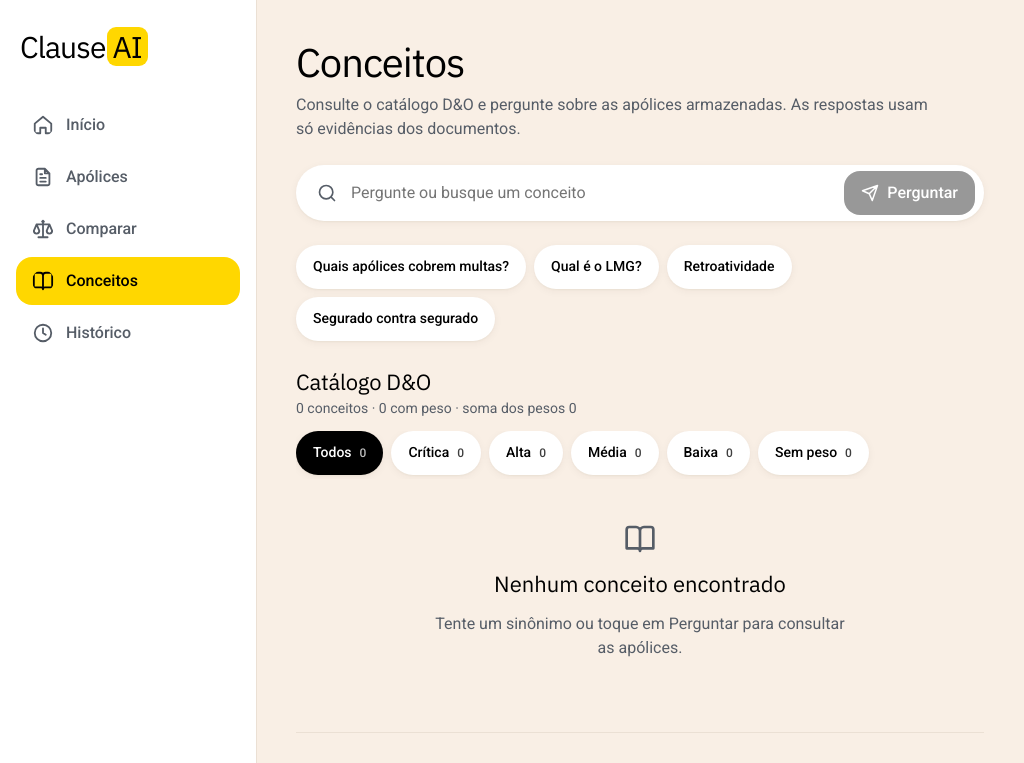
it: App › sends questions to the query endpoint
In the search field labelled "Pergunte ou busque um conceito": (591, 193) [349,171,832,215], type "Qual é o LMG?"
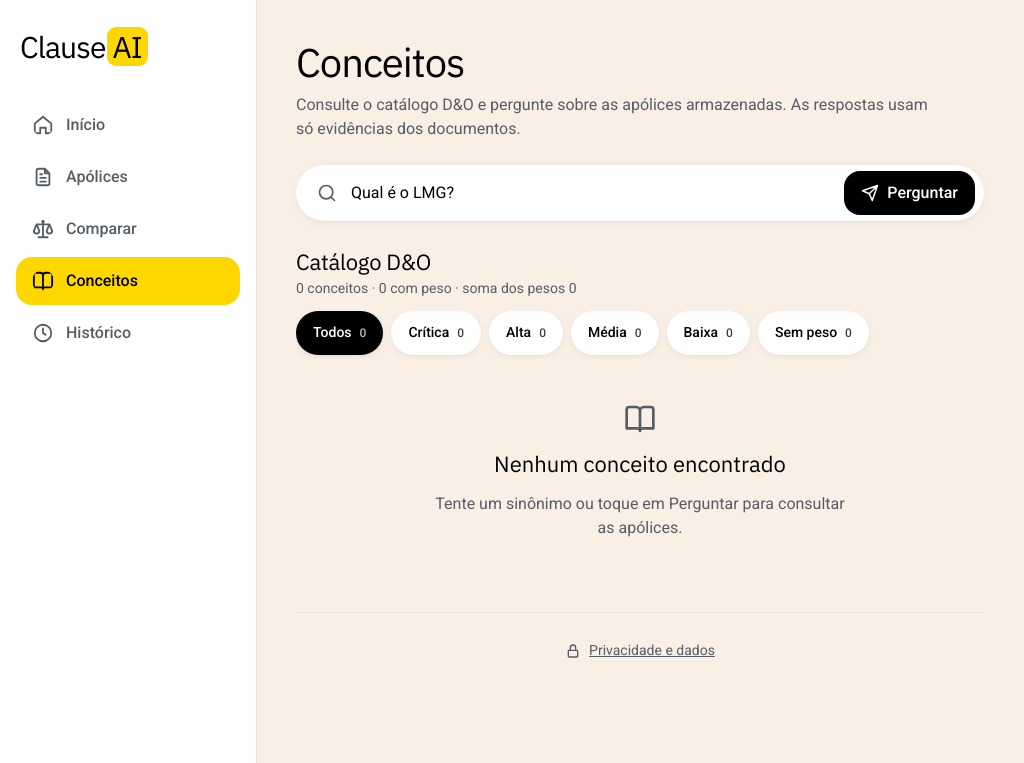
Click the button "Perguntar": (910, 193) [844,171,975,215]
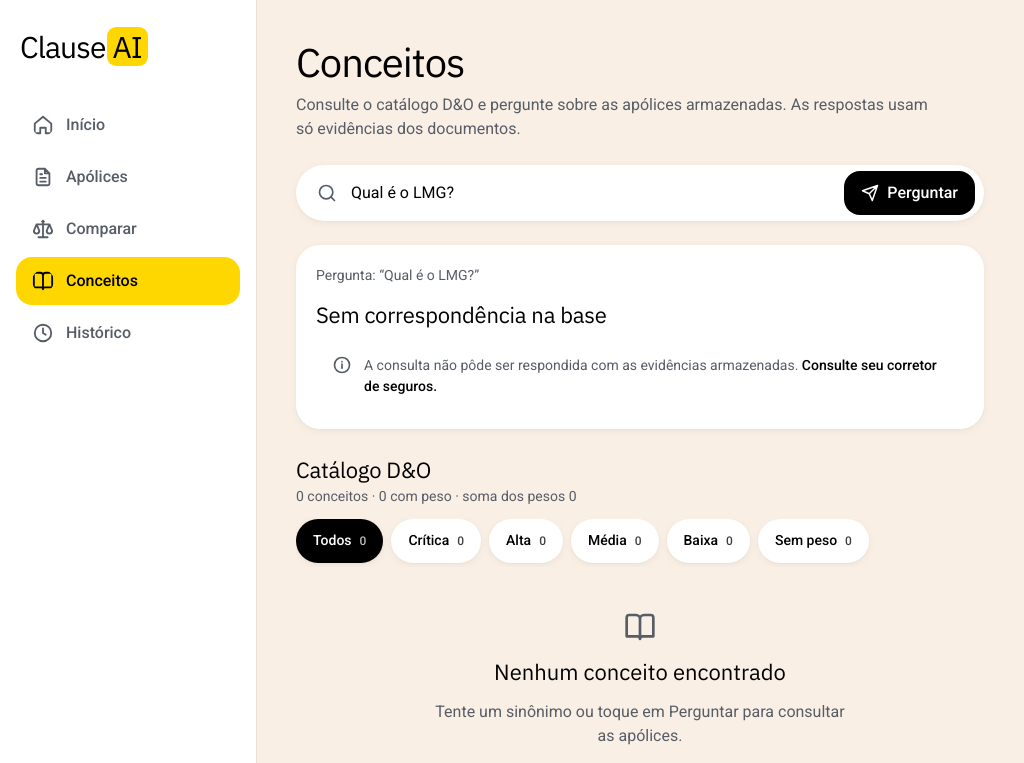
Result: the heading "Sem correspondência na base" is shown at [316,300,607,329]
